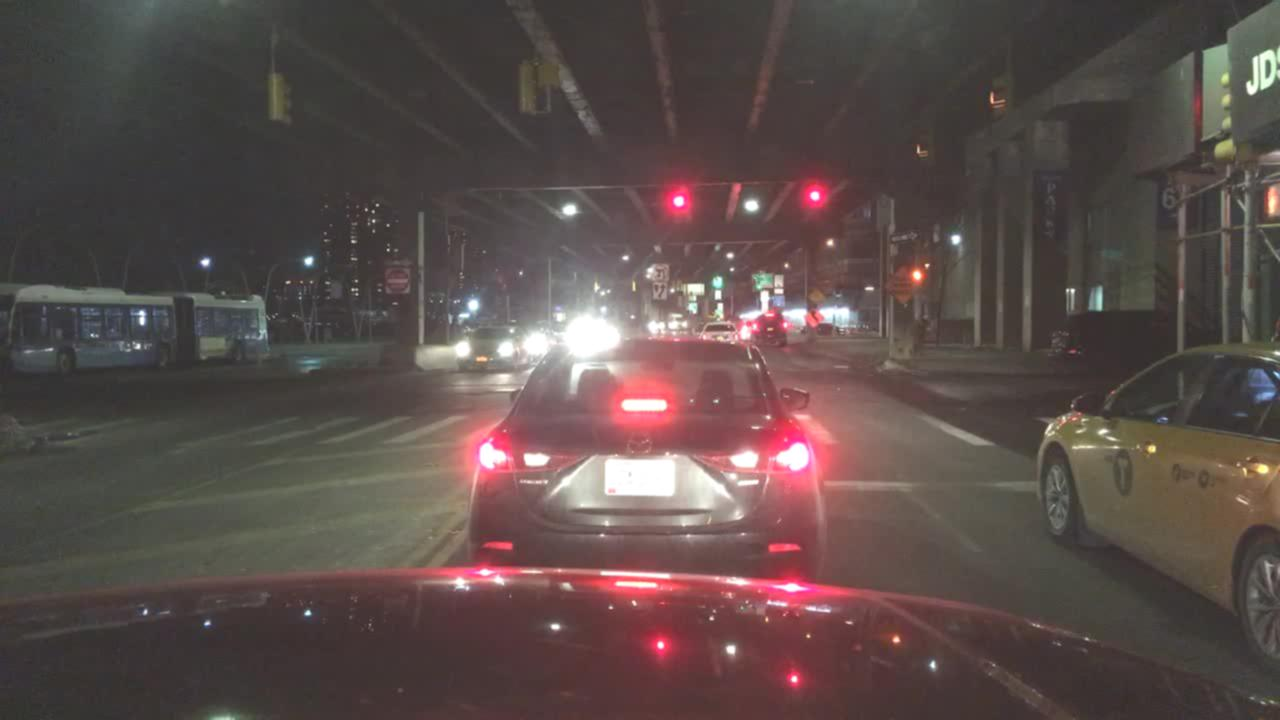Mazda: (613, 421, 671, 461)
